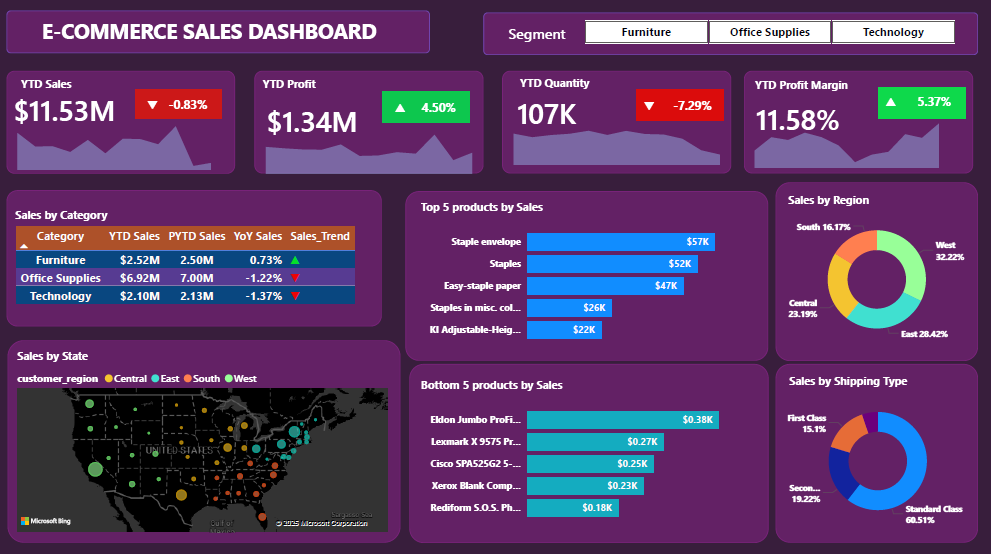

The page's visual inventory and layout, read from the dashboard file:
{"tool":"powerbi","page":{"name":"Page 1","canvas":[1280,720],"ordinal":0},"visuals":[{"type":"shape","box":[330.2,92.8,295.8,132.6],"z":0},{"type":"shape","box":[10.7,15.3,546.6,55.1],"z":1000},{"type":"textbox","box":[36.7,18.4,470,49],"z":2000},{"type":"shape","box":[10.7,92.6,295,133],"z":3000},{"type":"card","fields":{"Values":["ecommerce_data.YTD Sales"]},"box":[10.2,117.3,149.2,52.3],"z":4000},{"type":"shape","box":[177.2,117.3,110.9,38.2],"z":5000},{"type":"areaChart","fields":{"Category":["Calendar.Month"],"Y":["Sum(ecommerce_data.sales_per_order)"]},"box":[10.2,150.4,277.9,75.2],"z":6000},{"type":"card","fields":{"Values":["ecommerce_data.YoY Sales"]},"box":[205.3,123.7,79,24.2],"z":7000},{"type":"card","fields":{"Values":["ecommerce_data.Sales_Trend_Icon"]},"box":[159.4,123.7,79,24.2],"z":8000},{"type":"shape","box":[495.9,119.8,112.2,39.5],"z":9000},{"type":"textbox","box":[16.6,94.3,90.5,33.1],"z":10000},{"type":"card","fields":{"Values":["ecommerce_data.YTD Profit"]},"box":[330.2,132.6,149.2,52.3],"z":11000},{"type":"areaChart","fields":{"Category":["Calendar.Month"],"Y":["Sum(ecommerce_data.profit_per_order)"]},"box":[330.2,155.5,295.8,75.2],"z":12000},{"type":"card","fields":{"Values":["ecommerce_data.YoY Profit"]},"box":[529.1,127.5,79,24.2],"z":13000},{"type":"card","fields":{"Values":["ecommerce_data.Profit_Trend_Icon"]},"box":[479.4,127.5,79,24.2],"z":14000},{"type":"textbox","box":[330.2,94.3,90.5,33.1],"z":15000},{"type":"shape","box":[650.2,92.8,295.8,132.6],"z":16000},{"type":"card","fields":{"Values":["ecommerce_data.YTD Quantity"]},"box":[650.2,124.9,114.7,44.6],"z":17000},{"type":"areaChart","fields":{"Category":["Calendar.Month"],"Y":["Sum(ecommerce_data.order_quantity)"]},"box":[650.2,144.1,295.8,75.2],"z":18000},{"type":"textbox","box":[647.6,93.1,141.5,37],"z":19000},{"type":"shape","box":[823.6,117.3,112.2,39.5],"z":20000},{"type":"card","fields":{"Values":["ecommerce_data.Quantity_Trend_Icon"]},"box":[800.6,124.9,79,24.2],"z":21000},{"type":"card","fields":{"Values":["ecommerce_data.YoY Quantity"]},"box":[856.7,124.9,79,24.2],"z":22000},{"type":"shape","box":[962.5,92.8,295.8,132.6],"z":23000},{"type":"card","fields":{"Values":["ecommerce_data.YTD Profit Margin"]},"box":[962.5,126.2,139,58.6],"z":24000},{"type":"textbox","box":[963.8,95.6,146.6,37],"z":25000},{"type":"areaChart","fields":{"Category":["Calendar.Month"],"Y":["ecommerce_data.Profit Margin"]},"box":[962.5,144.1,265.2,79],"z":26000},{"type":"shape","box":[1135.9,114.7,112.2,39.5],"z":27000},{"type":"card","fields":{"Values":["ecommerce_data.Profit Margin_Trend_Icon"]},"box":[1113,119.8,79,24.2],"z":28000},{"type":"card","fields":{"Values":["ecommerce_data.YoY Profit Margin"]},"box":[1169.1,119.8,79,24.2],"z":29000},{"type":"shape","box":[10.2,247.3,484.5,175.9],"z":30000},{"type":"tableEx","title":"Sales by Category","fields":{"Values":["ecommerce_data.category_name","ecommerce_data.YTD Sales","ecommerce_data.PYTD Sales","ecommerce_data.YoY Sales","ecommerce_data.Sales_Trend_Icon"]},"box":[16.6,269,452.6,132.6],"z":31000},{"type":"shape","box":[11.5,441.1,507.4,261.4],"z":31001},{"type":"map","title":"Sales by State","fields":{"Y":["us_state_long_lat_codes.latitude"],"X":["us_state_long_lat_codes.longitude"],"Size":["ecommerce_data.YTD Sales"],"Series":["ecommerce_data.customer_region"]},"box":[19.1,450,488.3,243.5],"z":31002},{"type":"shape","box":[525.2,248,468.5,218.9],"z":31003},{"type":"shape","box":[529.8,471.6,463.9,231.2],"z":31004},{"type":"barChart","title":"Top 5 products by Sales","fields":{"Category":["ecommerce_data.product_name"],"Y":["ecommerce_data.YTD Sales"]},"box":[540.5,258.8,436.4,197.5],"z":31005},{"type":"barChart","title":"Bottom 5 products by Sales","fields":{"Category":["ecommerce_data.product_name"],"Y":["ecommerce_data.YTD Sales"]},"box":[540.5,488.4,436.4,197.5],"z":31006},{"type":"shape","box":[1003.3,237.1,261.4,230.8],"z":31007},{"type":"shape","box":[1003.3,471.7,261.4,230.8],"z":31008},{"type":"donutChart","title":"Sales by Region","fields":{"Y":["ecommerce_data.YTD Sales"],"Category":["ecommerce_data.customer_region"]},"box":[1014.8,248.6,238.4,207.8],"z":31009},{"type":"donutChart","title":"Sales by Shipping Type","fields":{"Y":["ecommerce_data.YTD Sales"],"Category":["ecommerce_data.shipping_type"]},"box":[1016.1,483.2,238.4,207.8],"z":31010},{"type":"shape","box":[626,17.8,638.7,54.8],"z":31011},{"type":"slicer","fields":{"Values":["ecommerce_data.category_name"]},"box":[731.8,21.7,526.5,43.3],"z":31012},{"type":"textbox","box":[641.3,26.8,108.4,38.2],"z":31013}]}

Visuals, with their boxes in screenshot pixels (x1, y1, x2, y2), scaled from the page's 1280x720 canvas onto the 991x554 screenshot:
shape: <bbox>256, 71, 485, 173</bbox>
shape: <bbox>8, 12, 431, 54</bbox>
textbox: <bbox>28, 14, 392, 52</bbox>
shape: <bbox>8, 71, 237, 174</bbox>
card - ecommerce_data.YTD Sales: <bbox>8, 90, 123, 130</bbox>
shape: <bbox>137, 90, 223, 120</bbox>
areaChart - Calendar.Month x Sum(ecommerce_data.sales_per_order): <bbox>8, 116, 223, 174</bbox>
card - ecommerce_data.YoY Sales: <bbox>159, 95, 220, 114</bbox>
card - ecommerce_data.Sales_Trend_Icon: <bbox>123, 95, 185, 114</bbox>
shape: <bbox>384, 92, 471, 123</bbox>
textbox: <bbox>13, 73, 83, 98</bbox>
card - ecommerce_data.YTD Profit: <bbox>256, 102, 371, 142</bbox>
areaChart - Calendar.Month x Sum(ecommerce_data.profit_per_order): <bbox>256, 120, 485, 178</bbox>
card - ecommerce_data.YoY Profit: <bbox>410, 98, 471, 117</bbox>
card - ecommerce_data.Profit_Trend_Icon: <bbox>371, 98, 432, 117</bbox>
textbox: <bbox>256, 73, 326, 98</bbox>
shape: <bbox>503, 71, 732, 173</bbox>
card - ecommerce_data.YTD Quantity: <bbox>503, 96, 592, 130</bbox>
areaChart - Calendar.Month x Sum(ecommerce_data.order_quantity): <bbox>503, 111, 732, 169</bbox>
textbox: <bbox>501, 72, 611, 100</bbox>
shape: <bbox>638, 90, 725, 121</bbox>
card - ecommerce_data.Quantity_Trend_Icon: <bbox>620, 96, 681, 115</bbox>
card - ecommerce_data.YoY Quantity: <bbox>663, 96, 724, 115</bbox>
shape: <bbox>745, 71, 974, 173</bbox>
card - ecommerce_data.YTD Profit Margin: <bbox>745, 97, 853, 142</bbox>
textbox: <bbox>746, 74, 860, 102</bbox>
areaChart - Calendar.Month x ecommerce_data.Profit Margin: <bbox>745, 111, 951, 172</bbox>
shape: <bbox>879, 88, 966, 119</bbox>
card - ecommerce_data.Profit Margin_Trend_Icon: <bbox>862, 92, 923, 111</bbox>
card - ecommerce_data.YoY Profit Margin: <bbox>905, 92, 966, 111</bbox>
shape: <bbox>8, 190, 383, 326</bbox>
"Sales by Category" tableEx: <bbox>13, 207, 363, 309</bbox>
shape: <bbox>9, 339, 402, 541</bbox>
"Sales by State" map: <bbox>15, 346, 393, 534</bbox>
shape: <bbox>407, 191, 769, 359</bbox>
shape: <bbox>410, 363, 769, 541</bbox>
"Top 5 products by Sales" barChart: <bbox>418, 199, 756, 351</bbox>
"Bottom 5 products by Sales" barChart: <bbox>418, 376, 756, 528</bbox>
shape: <bbox>777, 182, 979, 360</bbox>
shape: <bbox>777, 363, 979, 541</bbox>
"Sales by Region" donutChart: <bbox>786, 191, 970, 351</bbox>
"Sales by Shipping Type" donutChart: <bbox>787, 372, 971, 532</bbox>
shape: <bbox>485, 14, 979, 56</bbox>
slicer - ecommerce_data.category_name: <bbox>567, 17, 974, 50</bbox>
textbox: <bbox>497, 21, 580, 50</bbox>
